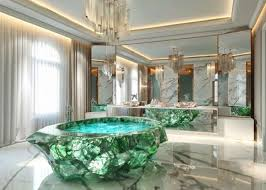bathub: (37, 117, 170, 186)
